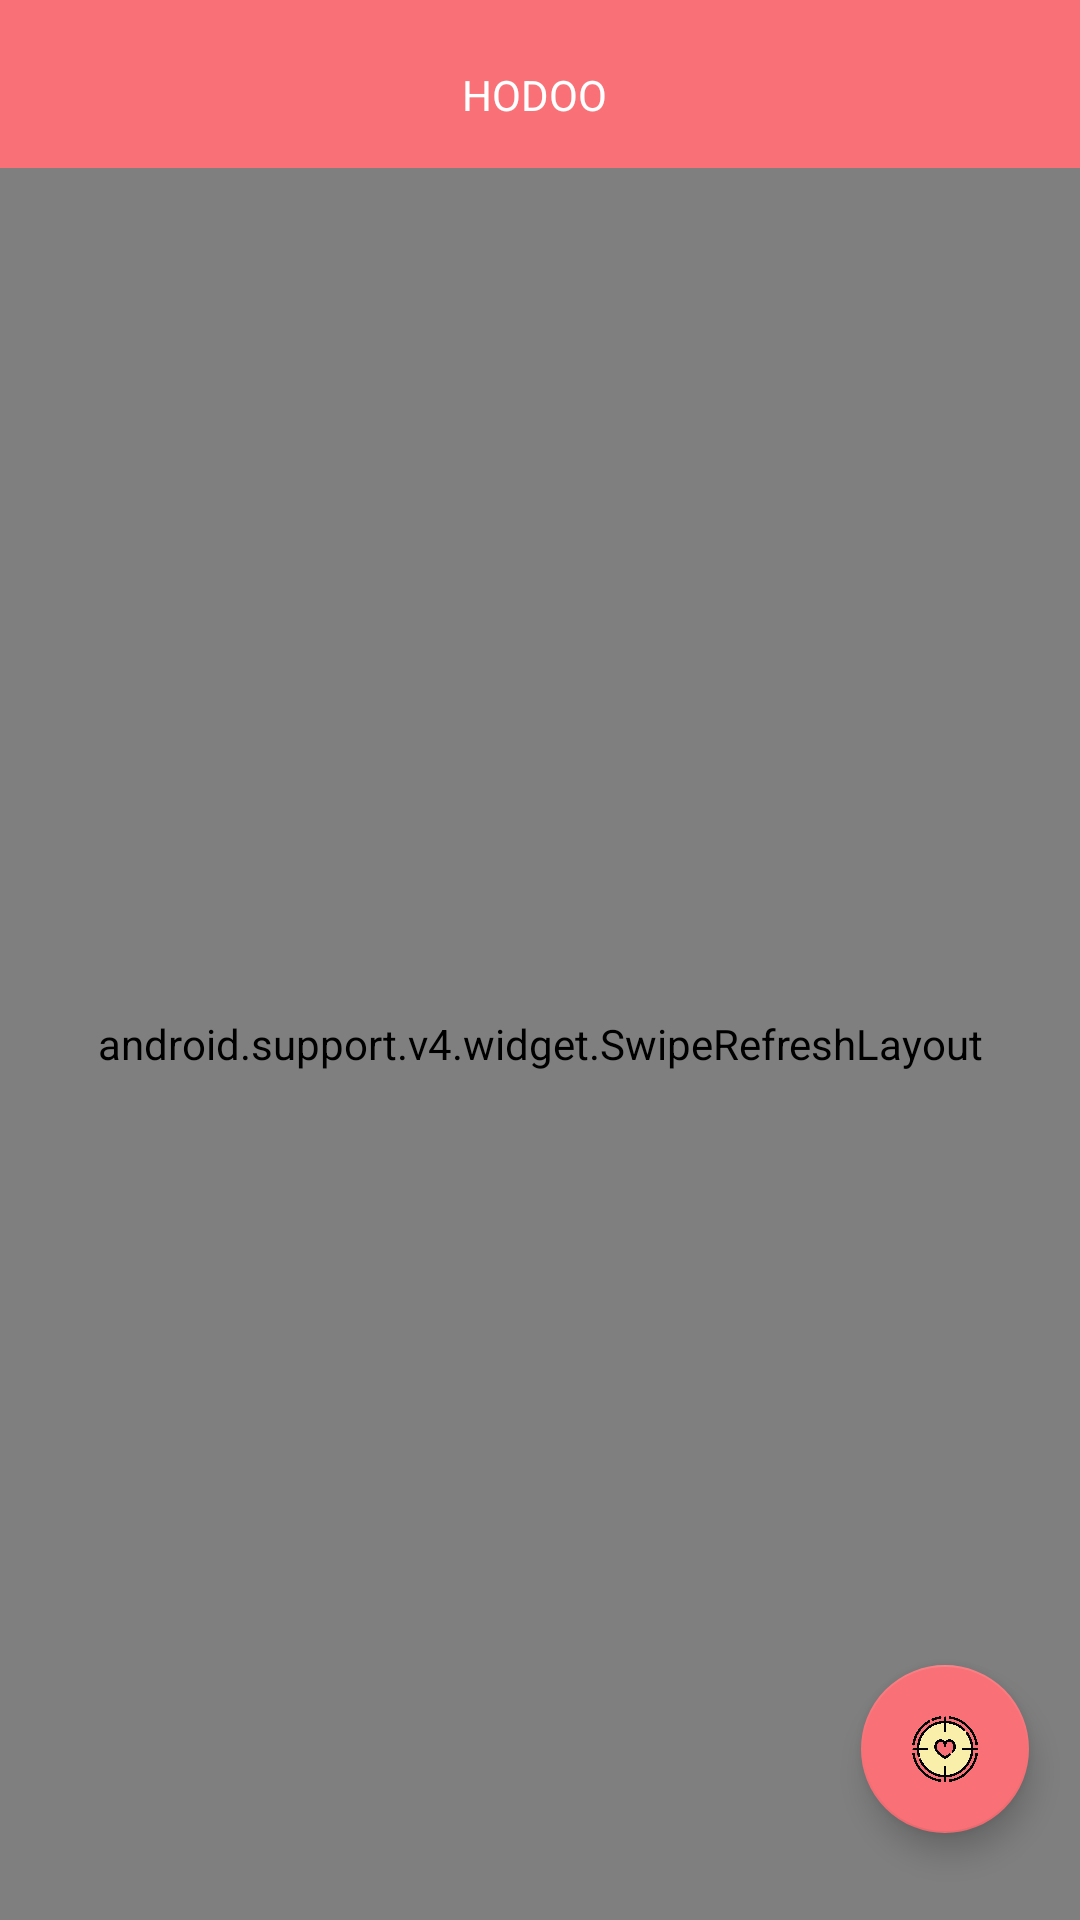

Where to tap for icons on this 1080×1920 app screen, as (x,y):
aim: (945,1749)
